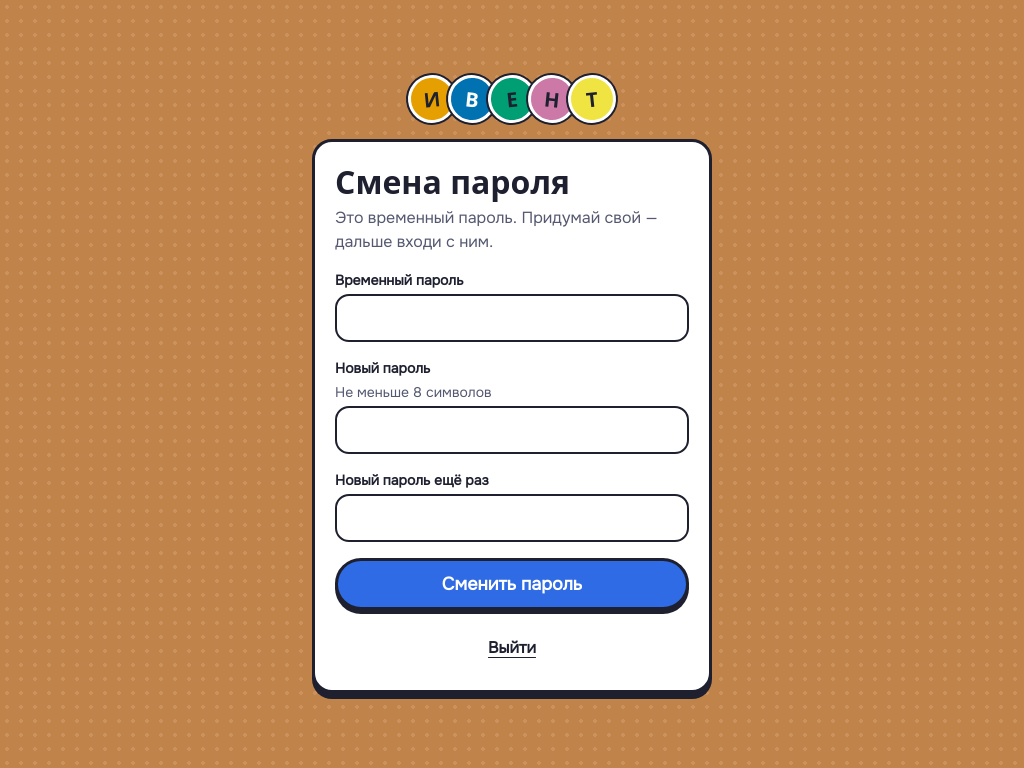
Scenario: Password change › refuses two different new passwords
The width and height of the screenshot is (1024, 768).
Type "времянка-1" into the password field with test id "password-current" at (512, 318), box [335, 294, 689, 342]
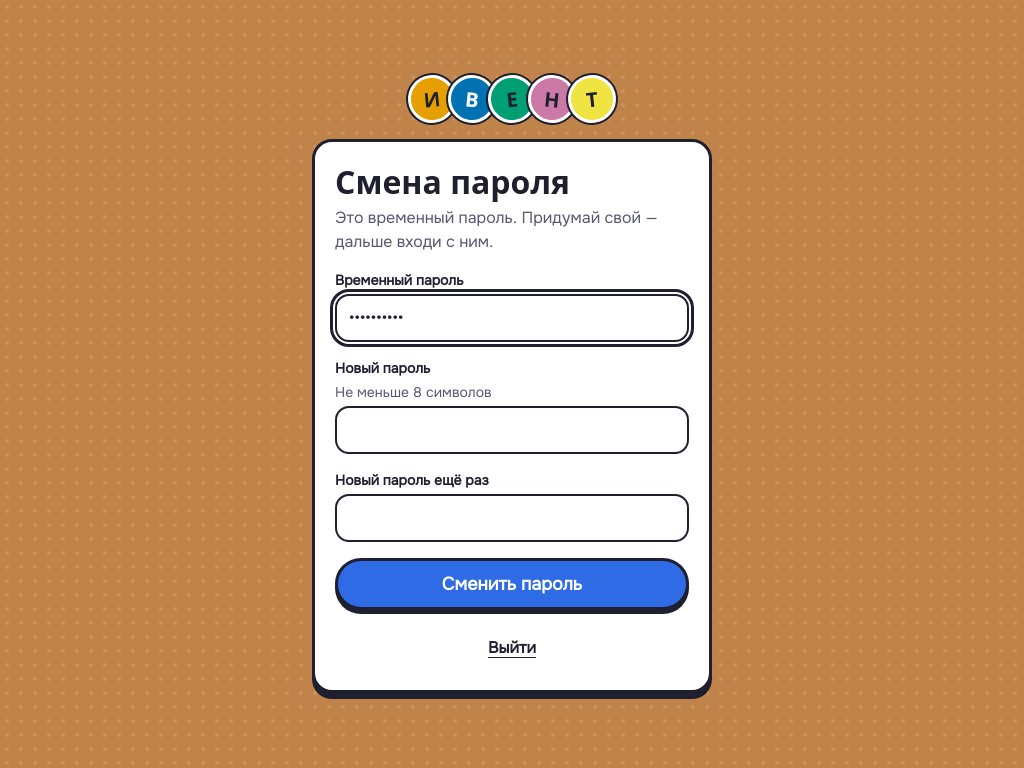
Type "свой-пароль-1" into the password field with test id "password-new" at (512, 430), box [335, 406, 689, 454]
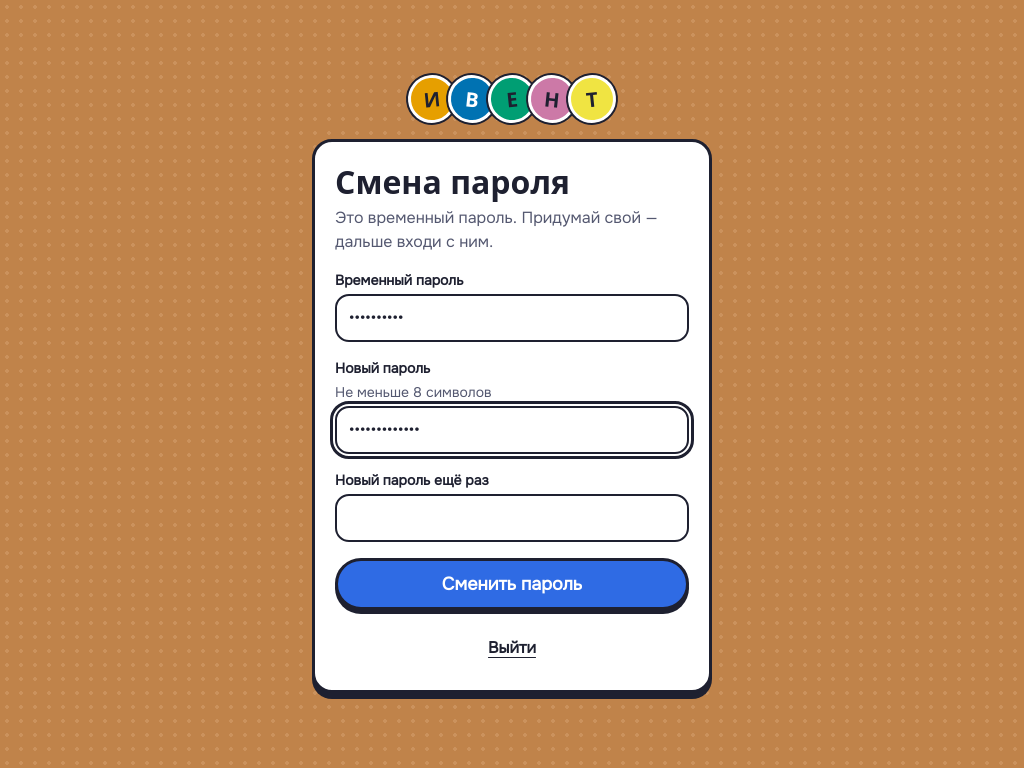
Type "свой-пароль-2" into the password field with test id "password-repeat" at (512, 518), box [335, 494, 689, 542]
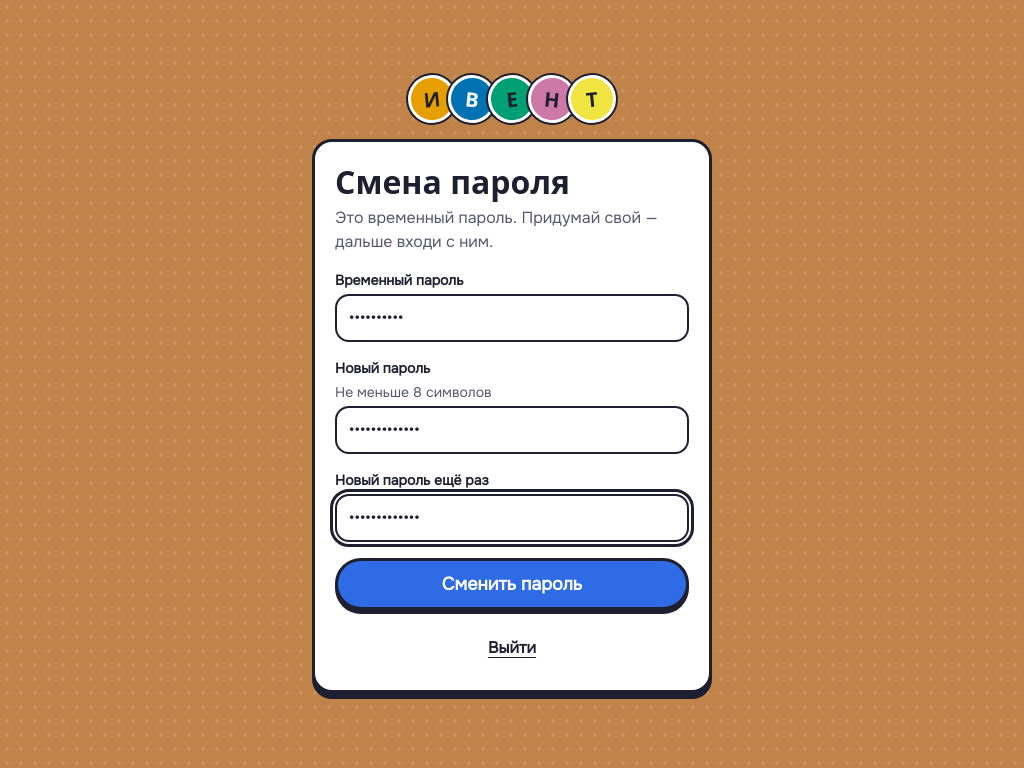
Click the button with test id "password-submit" at (512, 584), box [335, 558, 689, 610]
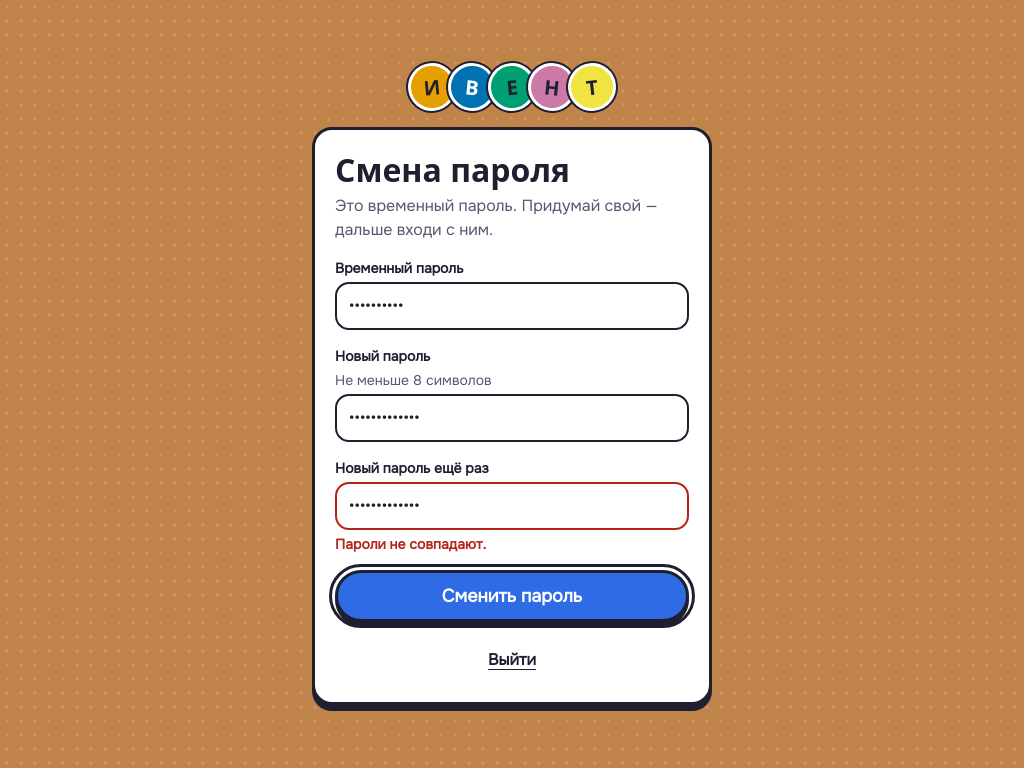
Result: the message reads "Пароли не совпадают." at [335, 535, 486, 553]
